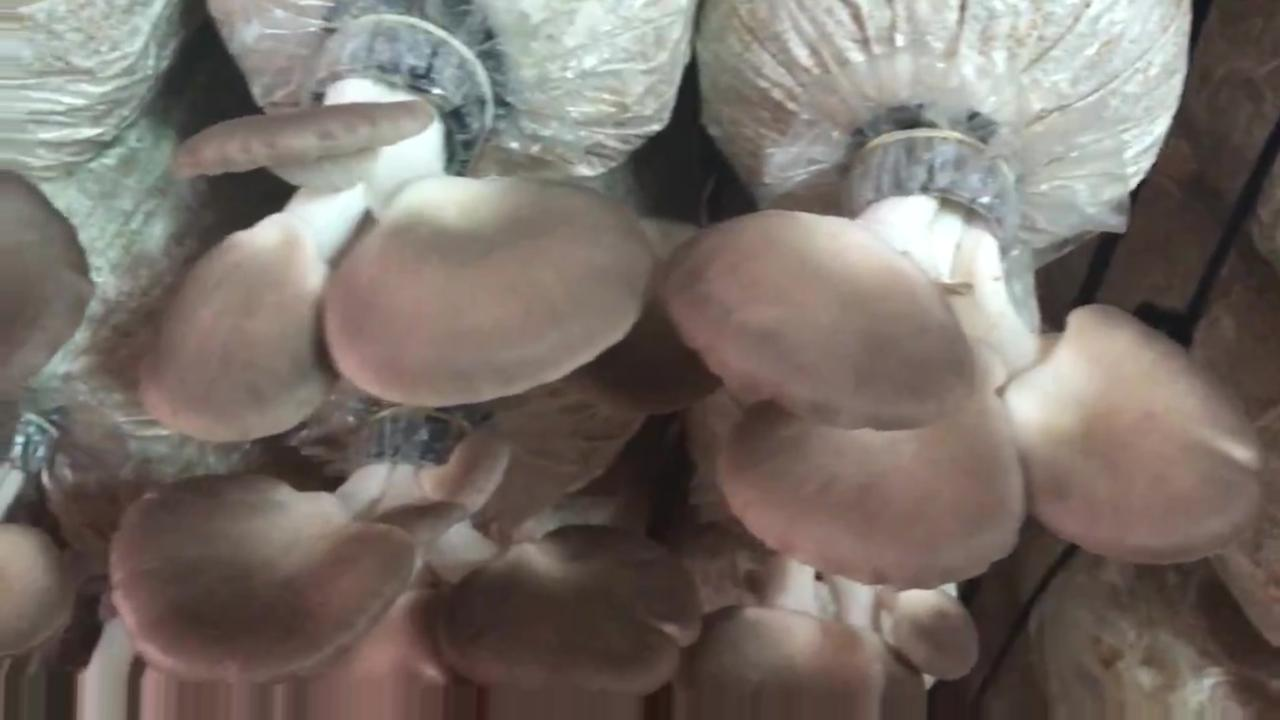nam: (664, 118, 1264, 589), (140, 1, 650, 441), (109, 403, 703, 720), (678, 549, 982, 720), (1, 171, 93, 451), (1, 527, 71, 650)
